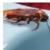cockroach: (4, 8, 49, 23)
